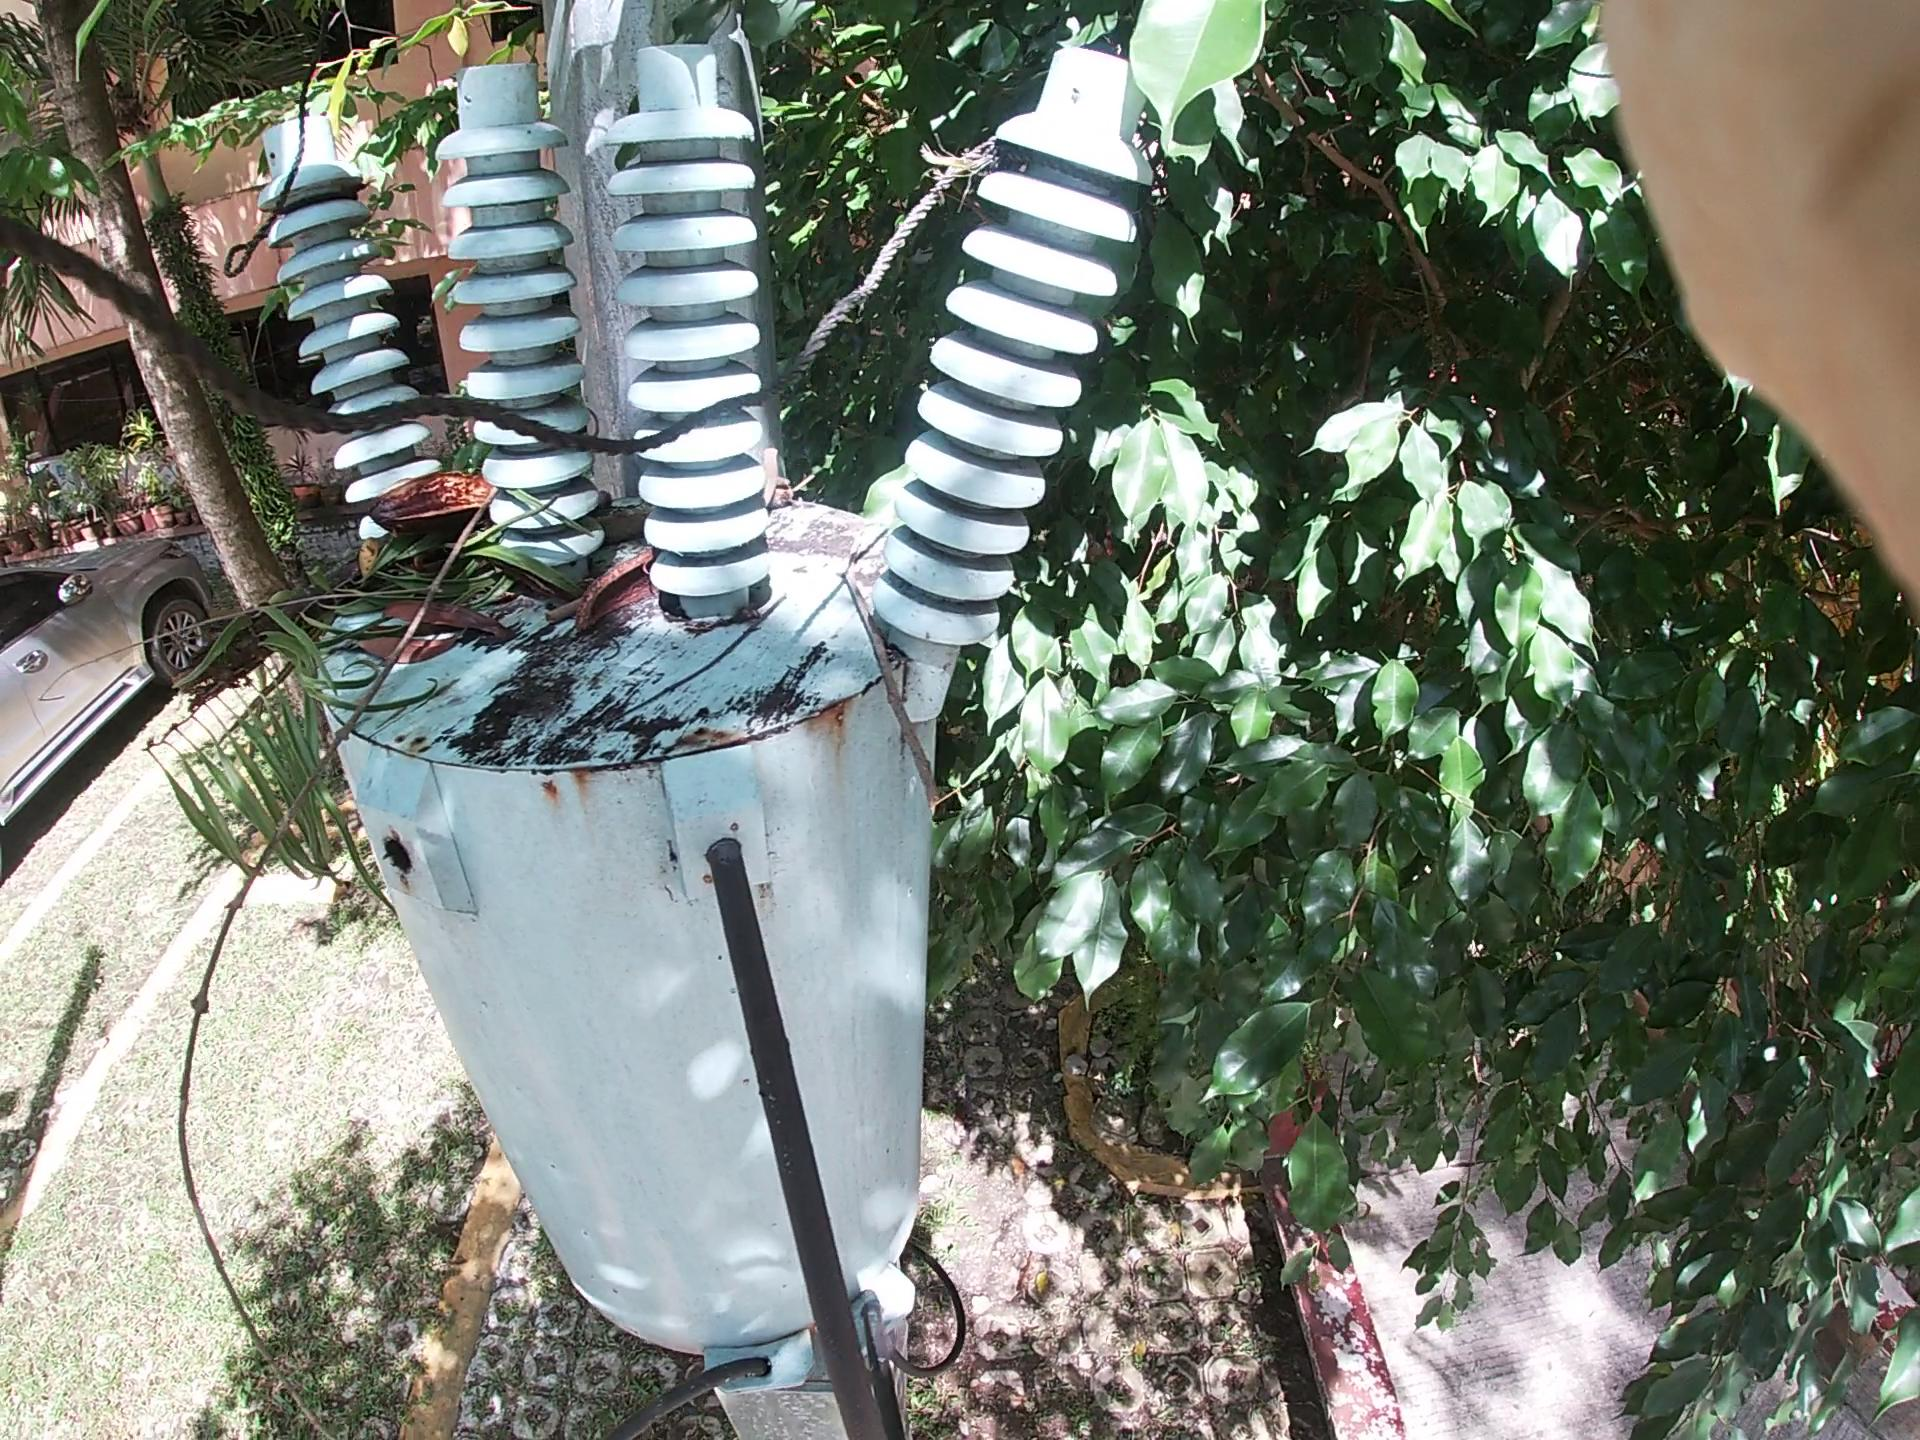branch with leaves: (163, 405, 438, 858)
leaf: (357, 591, 460, 690)
mahogany fruit: (544, 517, 692, 681), (333, 457, 544, 551)
tree branch: (121, 440, 485, 1125), (774, 495, 986, 800), (457, 502, 800, 659)
